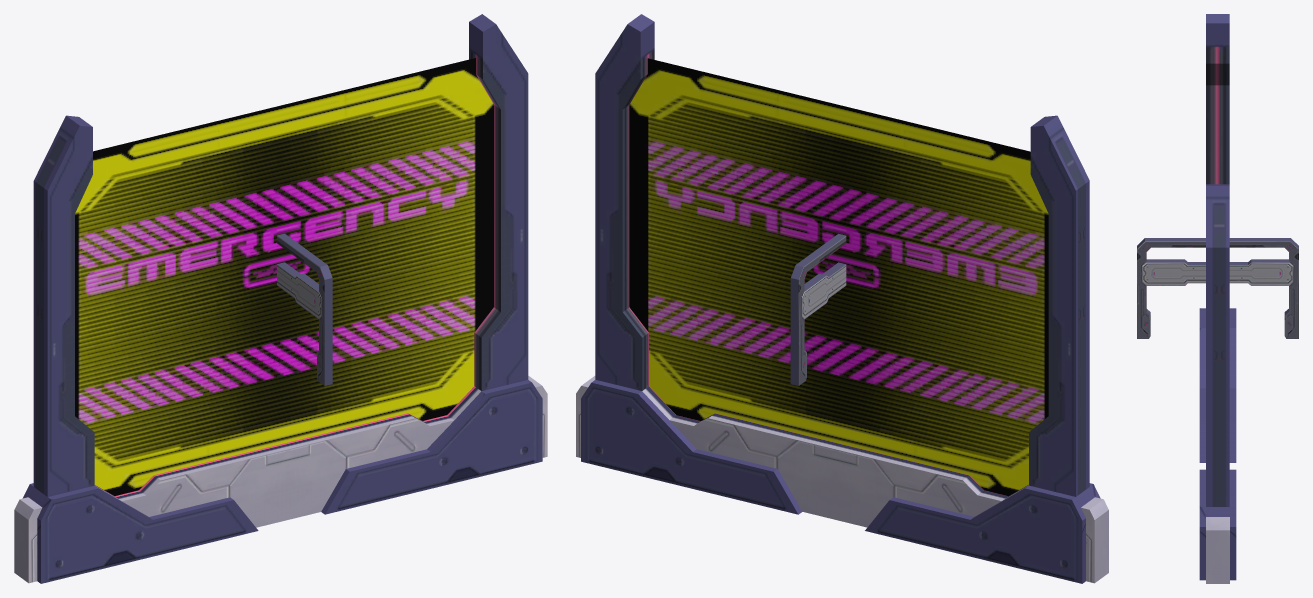
Rendered from Building_GHQ_objects_01.FBX.
The picture shows the model from 3 angles, left to right: view 1: azimuth 30°, elevation 25°; view 2: azimuth 150°, elevation 25°; view 3: azimuth 270°, elevation 25°; orthographic projection. The views are drawn at different scales.
Visible parts, largest first — view 1: polySurface65, polySurface20, Object001; view 2: polySurface65, polySurface20, Object001; view 3: polySurface20, Object001.
Part boxes in pixels (x1,y1,x2,y2): polySurface65: (75, 58, 493, 495); polySurface20: (14, 14, 547, 583); Object001: (277, 233, 332, 385); polySurface65: (629, 58, 1048, 496); polySurface20: (576, 14, 1108, 583); Object001: (790, 233, 846, 385); polySurface20: (1199, 14, 1236, 583); Object001: (1137, 238, 1298, 338).
Size of the model in its own units: 13.69 by 11.23 by 4.37.
